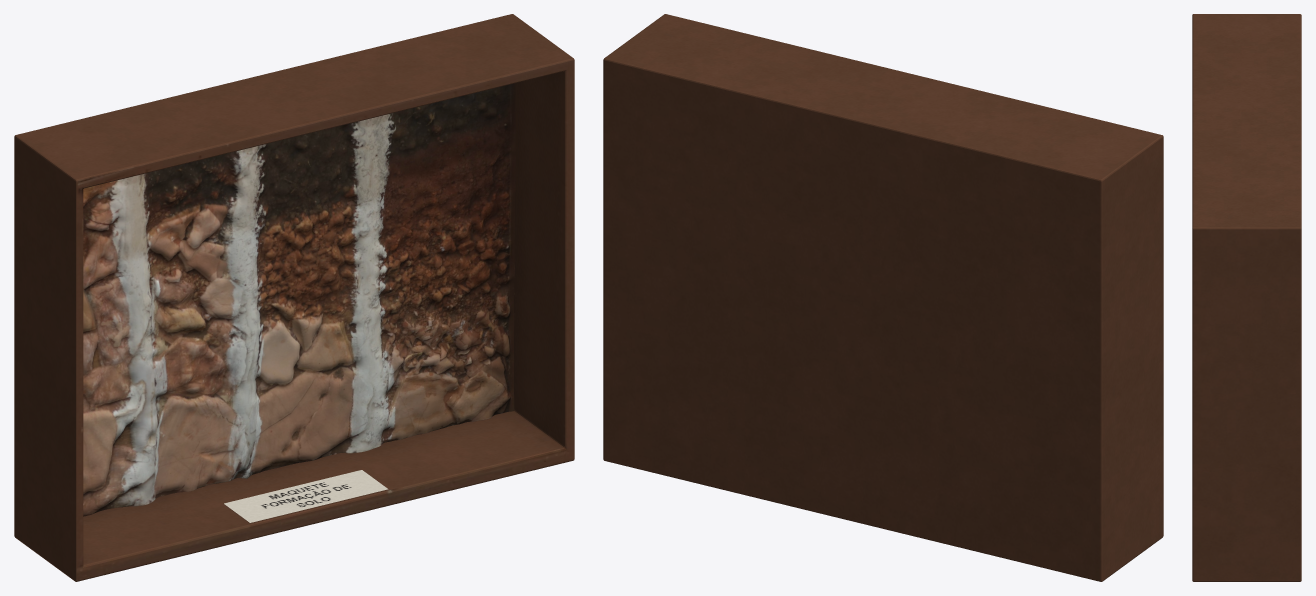
Rendered from maquete_01_formacao_do_solo.glb.
The picture shows the model from 3 angles, left to right: view 1: azimuth 30°, elevation 25°; view 2: azimuth 150°, elevation 25°; view 3: azimuth 270°, elevation 25°; orthographic projection. The views are drawn at different scales.
Parts seen in each view (by area): view 1: Maquete_Base, Estagio_A_B_C_R, Estagio_A_C_R, Estagio_A_R, Estagio_R, Divisoria_03, Divisoria_01, Divisoria_02, Maquete_Etiqueta; view 2: Maquete_Base; view 3: Maquete_Base.
Boxes of the visible parts, x1,y1,x2,y2 form: Maquete_Base: (14, 14, 574, 581); Estagio_A_B_C_R: (378, 83, 515, 446); Estagio_A_C_R: (249, 122, 360, 476); Estagio_A_R: (145, 150, 244, 499); Estagio_R: (83, 180, 136, 516); Divisoria_03: (346, 113, 396, 453); Divisoria_01: (111, 173, 166, 506); Divisoria_02: (227, 145, 264, 478); Maquete_Etiqueta: (224, 470, 388, 522); Maquete_Base: (603, 14, 1163, 581); Maquete_Base: (1192, 14, 1301, 581).
Bounding box in the file's own units: 0.65 × 0.5009 × 0.14.
Materials: 3 (3 with a texture image).
